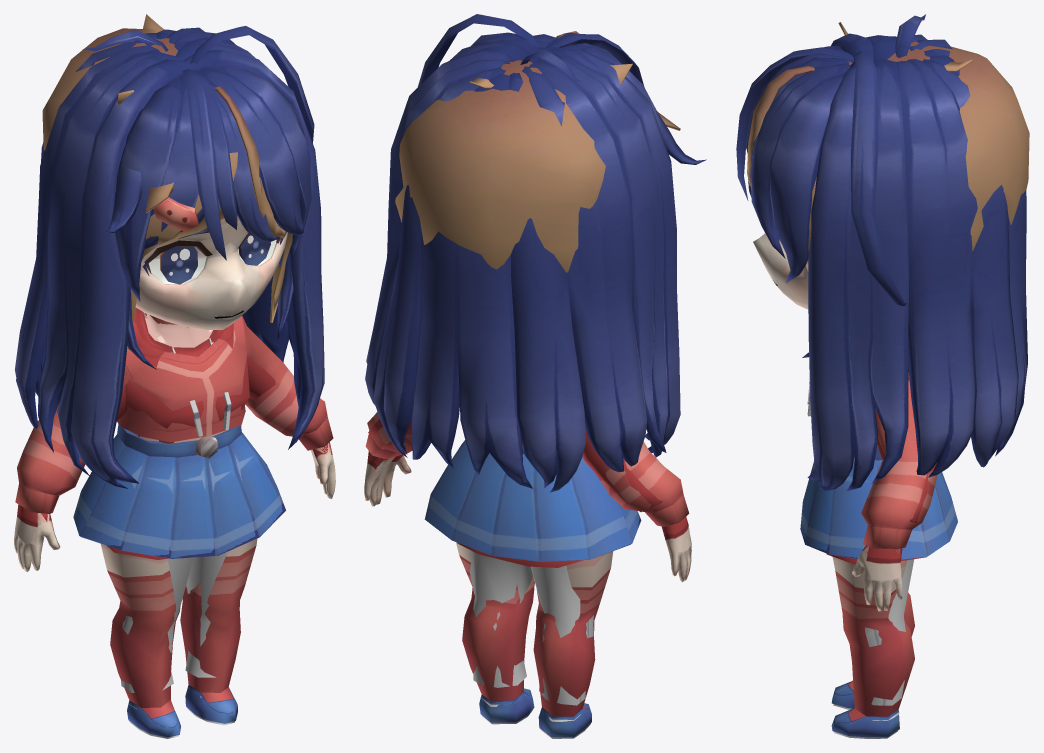
Rendered from 袖珍米塔.fbx.
3 views of the same model, side by side, from view 1: azimuth 30°, elevation 25°; view 2: azimuth 150°, elevation 25°; view 3: azimuth 270°, elevation 25° (orthographic).
Visible parts, largest first — view 1: SubMesh_0.001, SubMesh_0; view 2: SubMesh_0.001, SubMesh_0; view 3: SubMesh_0.001, SubMesh_0.
Part boxes in pixels (box(x1,y1,x2,y2)): SubMesh_0.001: box(14, 26, 335, 737); SubMesh_0: box(14, 14, 334, 738); SubMesh_0.001: box(365, 14, 706, 737); SubMesh_0: box(364, 31, 691, 738); SubMesh_0.001: box(736, 14, 1027, 737); SubMesh_0: box(747, 22, 1029, 738).
Bounding box in the file's own units: 1.38 × 2.87 × 1.12.
2 materials, 2 textured.
